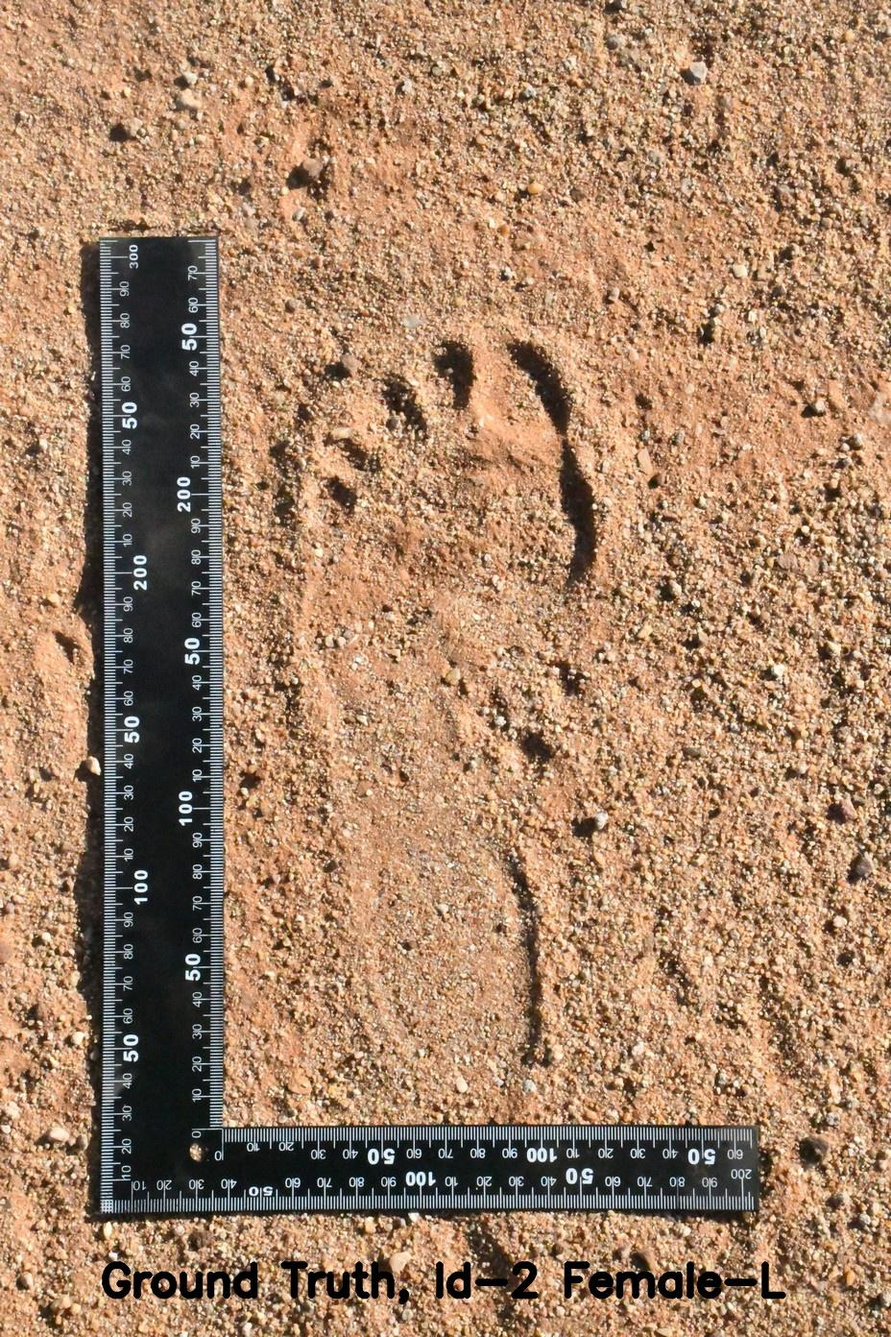human_footprint: (253, 285, 663, 1127)
